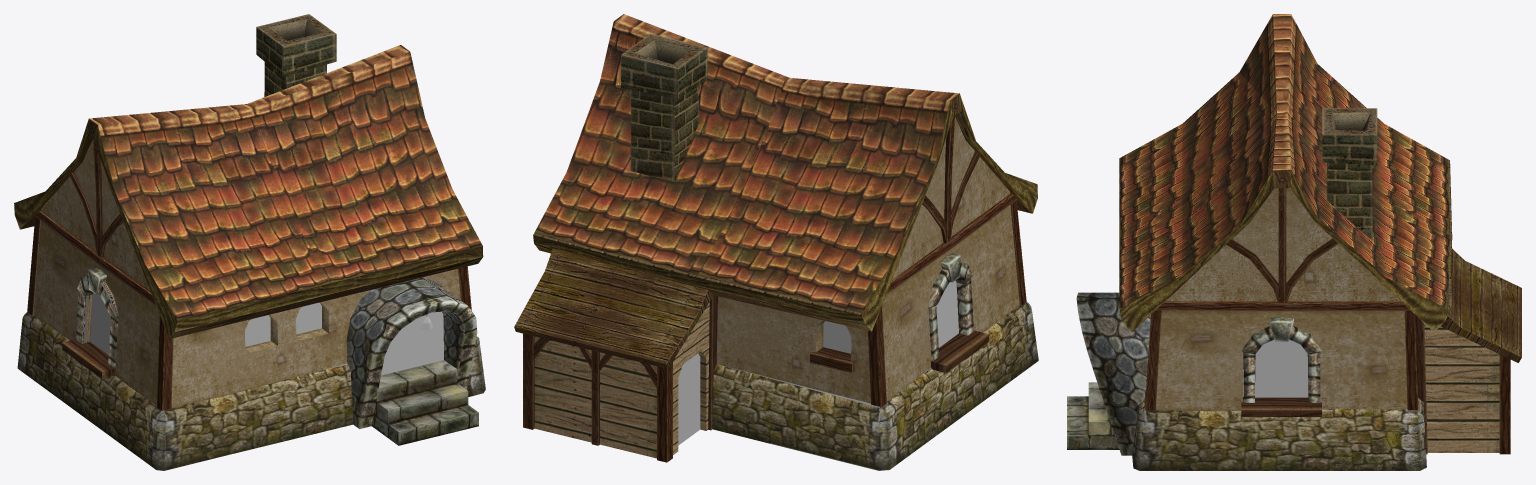
The model's file is House_01.FBX.
The picture shows the model from 3 angles, left to right: view 1: azimuth 30°, elevation 25°; view 2: azimuth 150°, elevation 25°; view 3: azimuth 270°, elevation 25°; orthographic projection. The views are drawn at different scales.
Visible parts, largest first — view 1: House_01; view 2: House_01; view 3: House_01.
Part boxes in pixels (x1=…): House_01: x1=14, y1=14, x2=485, y2=470; House_01: x1=514, y1=14, x2=1038, y2=470; House_01: x1=1067, y1=14, x2=1521, y2=470.
Size of the model in its own units: 7.28 by 6.27 by 8.4.
